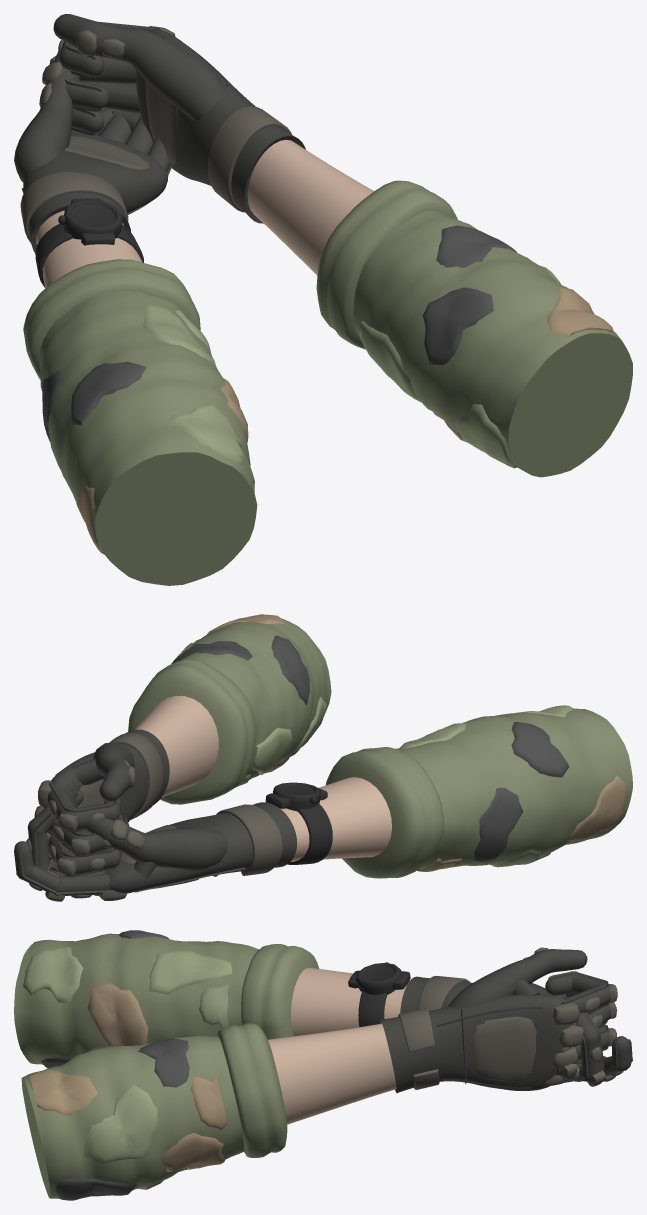
The model's file is arms.glb.
The picture shows the model from 3 angles, top to bottom: view 1: azimuth 30°, elevation 25°; view 2: azimuth 150°, elevation 25°; view 3: azimuth 270°, elevation 25°; orthographic projection. The views are drawn at different scales.
Parts seen in each view (by area): view 1: ARM_R, ARM_L; view 2: ARM_L, ARM_R; view 3: ARM_R, ARM_L.
Boxes of the visible parts, <box> form: ARM_R: <box>49,14,632,477</box>; ARM_L: <box>14,51,257,585</box>; ARM_L: <box>14,705,632,901</box>; ARM_R: <box>34,614,331,876</box>; ARM_R: <box>21,947,617,1200</box>; ARM_L: <box>14,930,632,1086</box>.
Bounding box in the file's own units: 0.4068 × 0.1917 × 0.5332.
